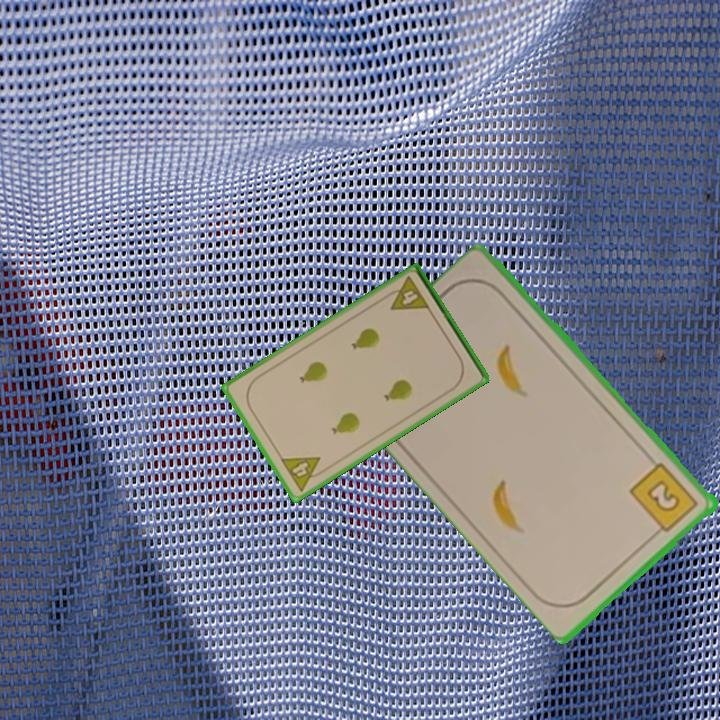2b: (626, 459, 702, 539)
4p: (277, 453, 330, 495), (381, 273, 433, 314)
